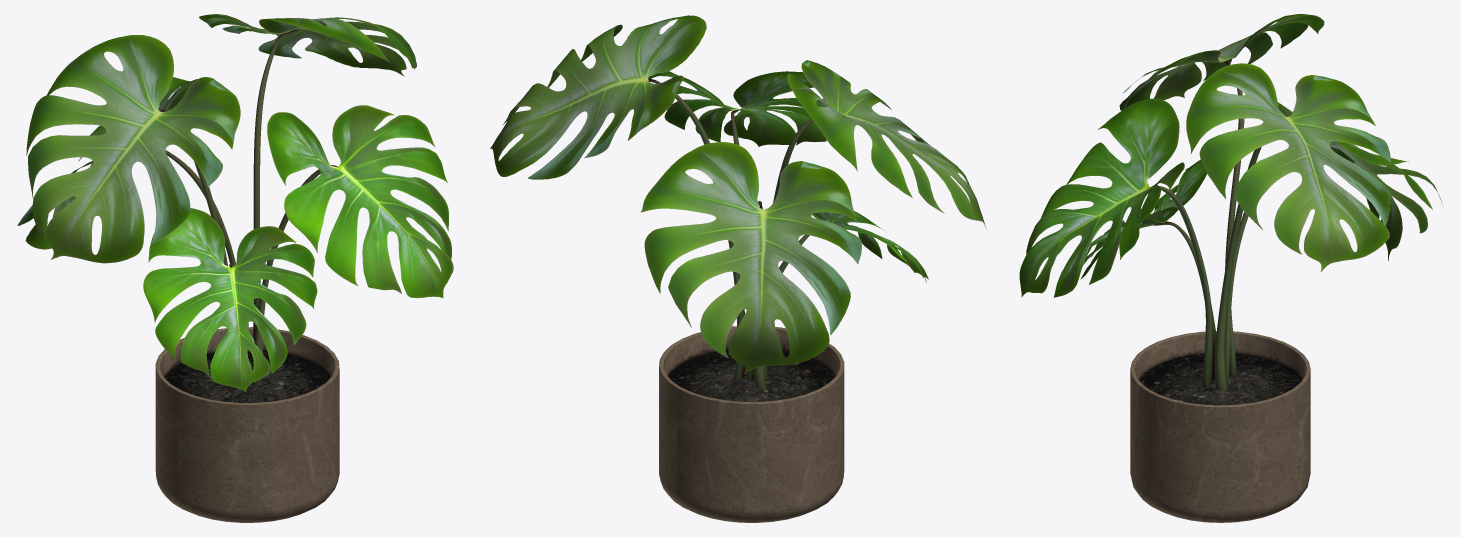
The model's file is MZRa_Monstera_B02.fbx.
The picture shows the model from 3 angles, left to right: view 1: azimuth 30°, elevation 25°; view 2: azimuth 150°, elevation 25°; view 3: azimuth 270°, elevation 25°; orthographic projection. The views are drawn at different scales.
Parts seen in each view (by area): view 1: SM_MZRa_Monstera_B02; view 2: SM_MZRa_Monstera_B02; view 3: SM_MZRa_Monstera_B02.
Part boxes in pixels (bbox=[...]): SM_MZRa_Monstera_B02: bbox=[17, 14, 453, 522]; SM_MZRa_Monstera_B02: bbox=[490, 15, 986, 522]; SM_MZRa_Monstera_B02: bbox=[1019, 14, 1443, 522].
Size of the model in its own units: 155 by 158 by 137.
